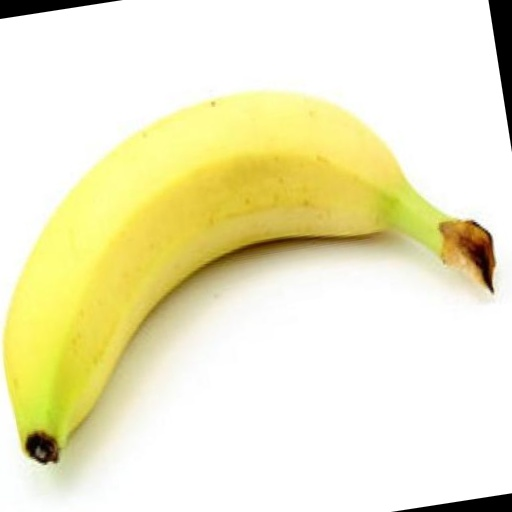fruit: (4, 92, 494, 461)
